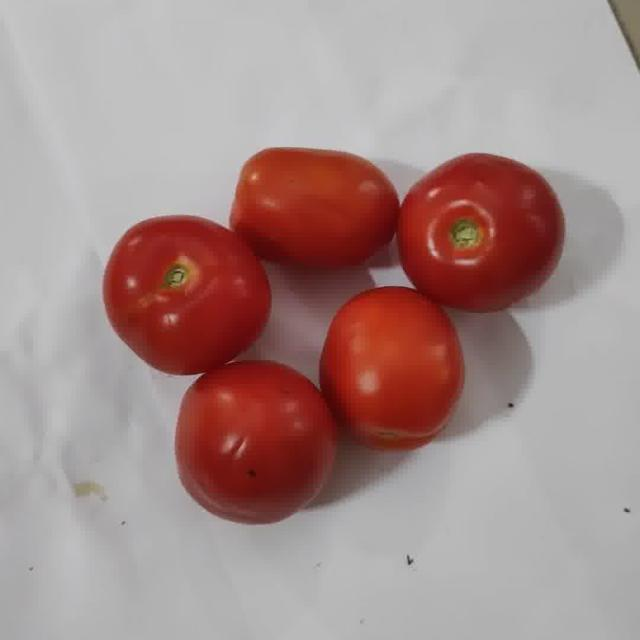Tomato: (104, 216, 270, 374), (399, 153, 564, 311), (175, 361, 336, 522), (320, 287, 463, 449), (230, 148, 399, 268)
